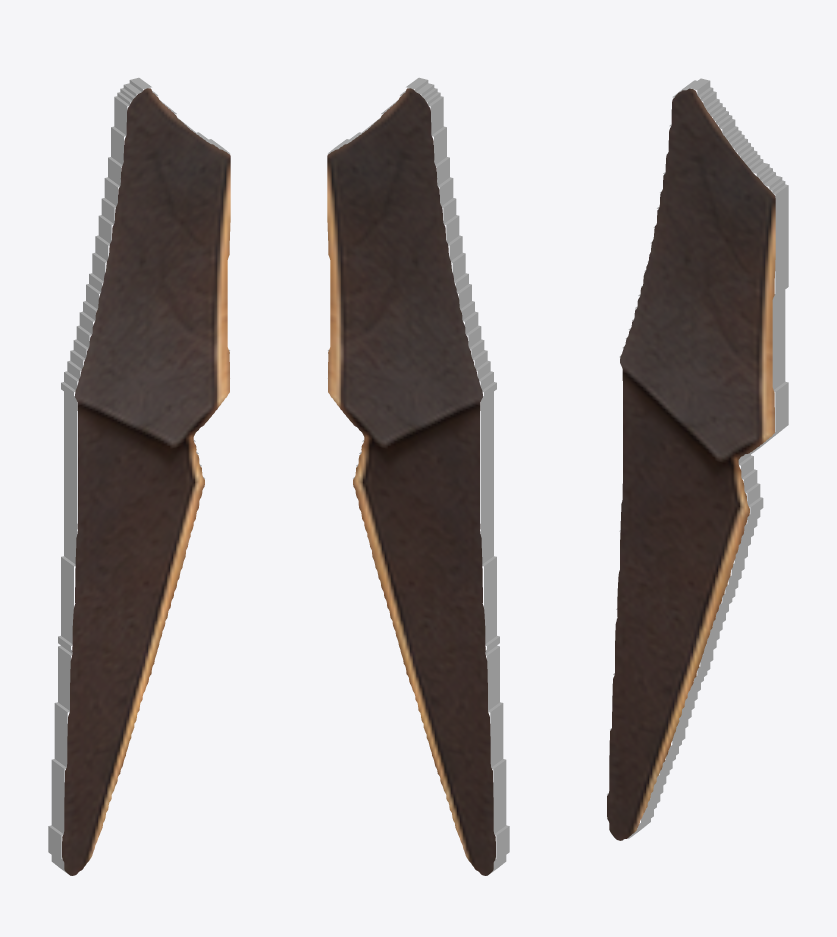
The model's file is Variant02Lower.glb.
3 views of the same model, side by side, from view 1: azimuth 30°, elevation 25°; view 2: azimuth 150°, elevation 25°; view 3: azimuth 330°, elevation 25° (orthographic).
Visible parts, largest first — view 1: PaperVolume; view 2: PaperVolume; view 3: PaperVolume.
Boxes of the visible parts, <box> form: PaperVolume: <box>48,77,230,875</box>; PaperVolume: <box>327,77,509,875</box>; PaperVolume: <box>607,78,788,840</box>.
Size of the model in its own units: 0.84 by 2.84 by 0.08.
Materials: 3 (2 with a texture image).
